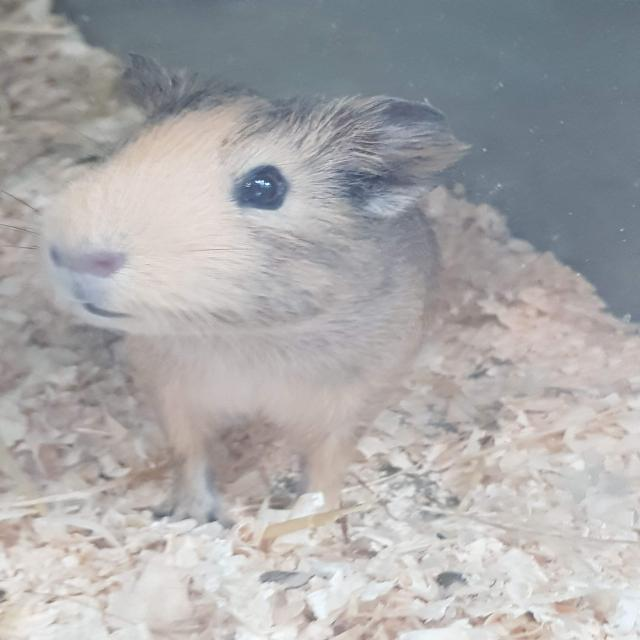guinea pig: (32, 52, 473, 544)
